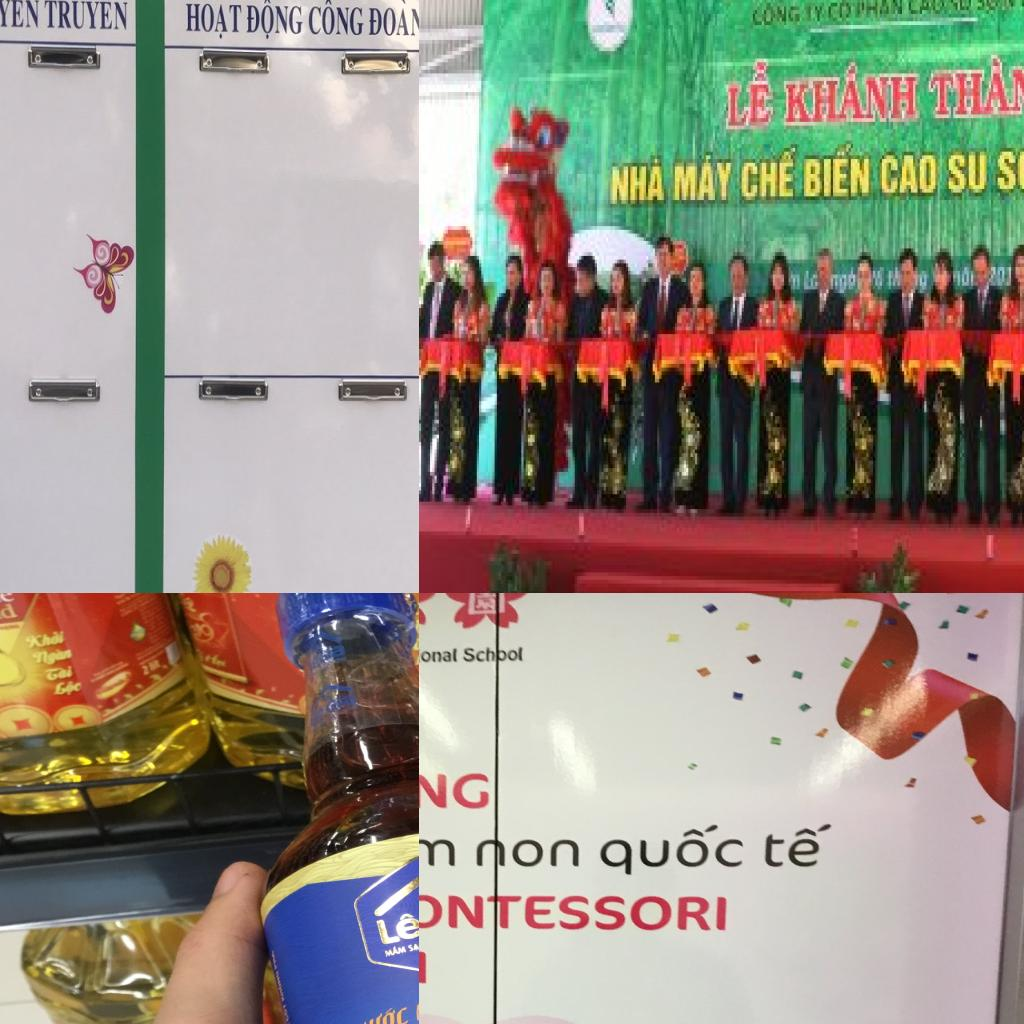text: (419, 891, 733, 935), (784, 59, 922, 129), (592, 821, 746, 876), (928, 55, 1024, 122), (804, 140, 873, 204), (474, 837, 584, 872), (724, 59, 775, 133), (740, 144, 800, 204), (606, 156, 670, 212), (673, 152, 735, 208), (760, 822, 832, 870), (419, 767, 491, 811), (880, 152, 940, 200), (42, 0, 129, 31), (245, 0, 304, 41), (185, 3, 242, 40), (946, 148, 989, 196), (367, 0, 419, 39), (419, 819, 459, 867), (374, 908, 419, 946), (995, 144, 1024, 196), (351, 1002, 410, 1024), (753, 2, 802, 28), (462, 645, 524, 665), (0, 0, 40, 29), (29, 645, 74, 668), (857, 0, 906, 21), (22, 628, 66, 650), (419, 645, 460, 667), (48, 677, 87, 698), (828, 0, 855, 25), (908, 0, 946, 17), (42, 664, 74, 683), (975, 0, 1017, 14), (203, 652, 230, 670), (804, 3, 826, 25), (950, 0, 975, 17), (382, 942, 408, 958), (998, 267, 1009, 290), (139, 663, 151, 677), (410, 633, 419, 651), (407, 940, 419, 953)
